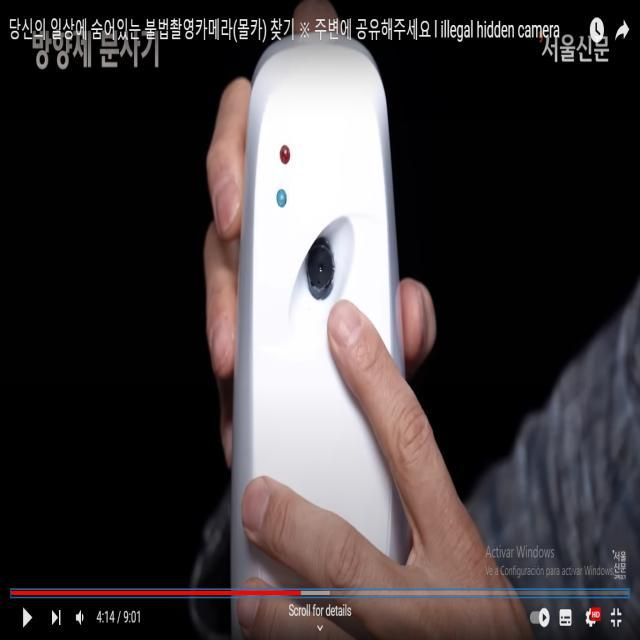hidden camera: (316, 258, 326, 280)
